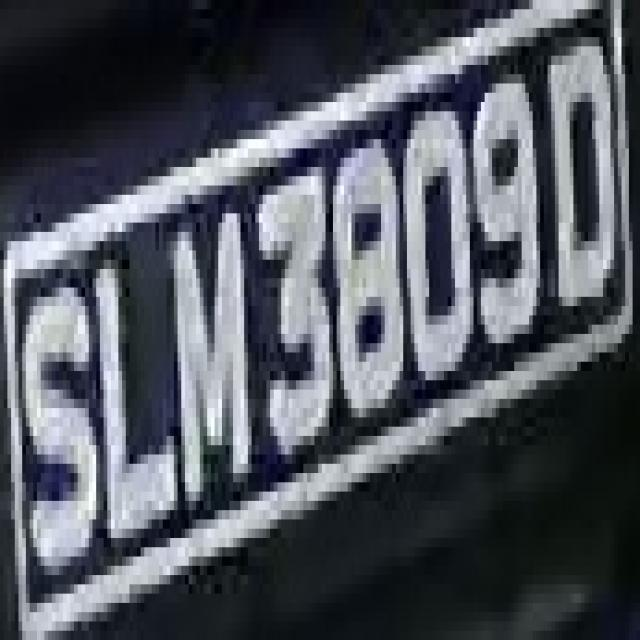0: (396, 83, 473, 390)
3: (248, 148, 329, 482)
8: (333, 120, 411, 427)
9: (470, 65, 540, 380)
D: (544, 37, 621, 334)
L: (92, 222, 178, 528)
M: (155, 176, 259, 520)
S: (19, 250, 96, 566)
